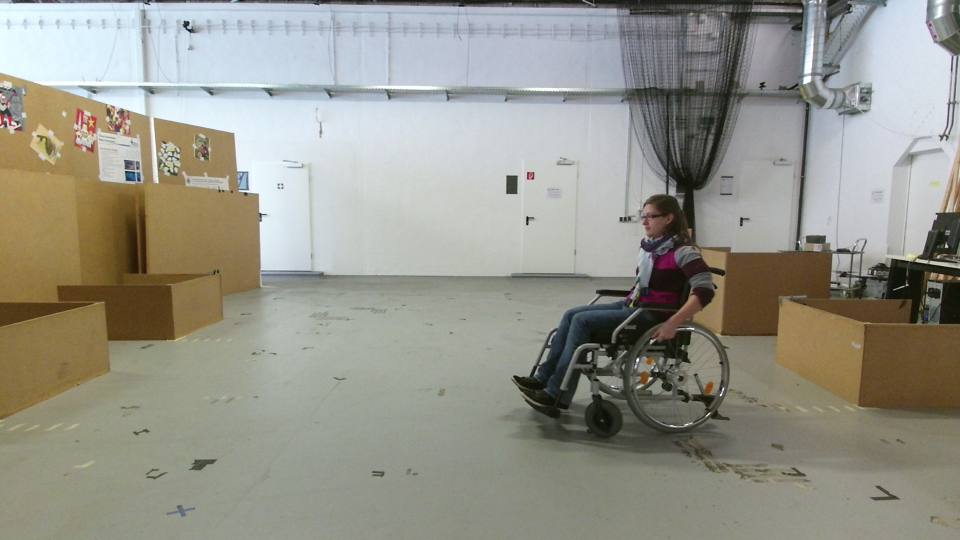wheelchair: (512, 188, 746, 443)
